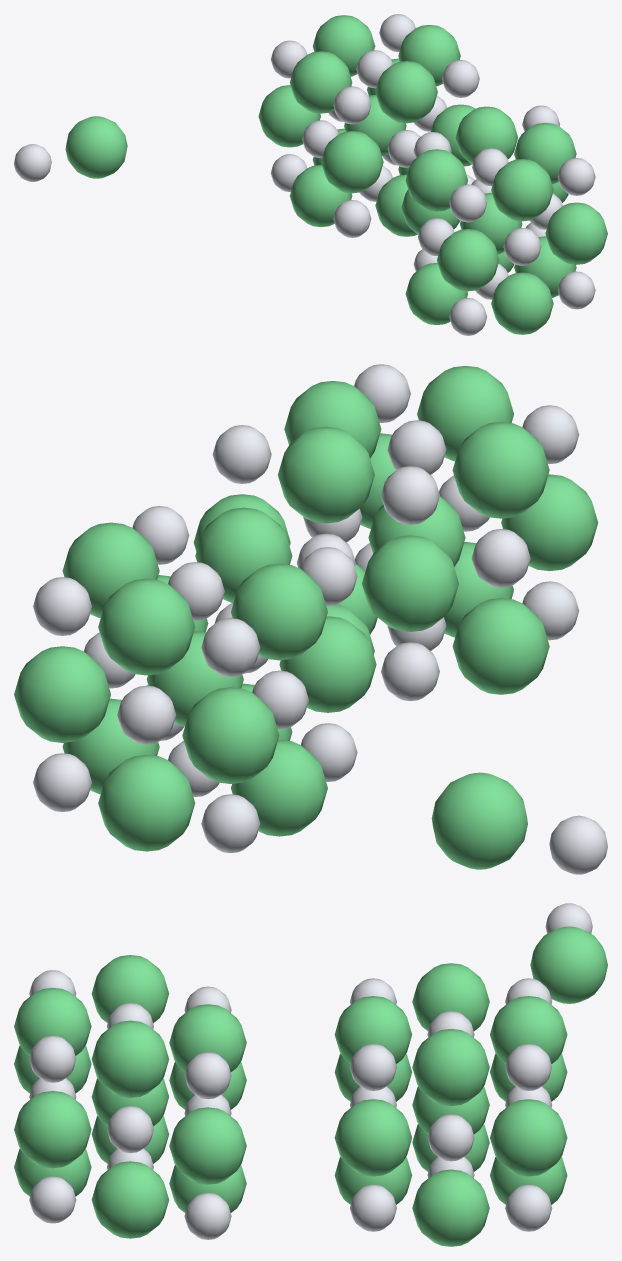
File: ionic_kit.glb
3 views of the same model, one above another, from view 1: azimuth 30°, elevation 25°; view 2: azimuth 150°, elevation 25°; view 3: azimuth 270°, elevation 25° (orthographic). The views are drawn at different scales.
Visible parts, largest first — view 1: lattice_shifted, lattice_nacl, cl_ion, na_ion; view 2: lattice_nacl, lattice_shifted, cl_ion, na_ion; view 3: lattice_shifted, lattice_nacl, cl_ion, na_ion.
Part boxes in pixels (x1=…): lattice_shifted: x1=401, y1=105, x2=607, y2=335; lattice_nacl: x1=258, y1=14, x2=479, y2=237; cl_ion: x1=65, y1=116, x2=127, y2=178; na_ion: x1=14, y1=144, x2=51, y2=181; lattice_nacl: x1=14, y1=506, x2=376, y2=852; lattice_shifted: x1=193, y1=364, x2=598, y2=700; cl_ion: x1=431, y1=772, x2=527, y2=869; na_ion: x1=549, y1=815, x2=607, y2=874; lattice_shifted: x1=14, y1=955, x2=246, y2=1239; lattice_nacl: x1=334, y1=963, x2=567, y2=1246; cl_ion: x1=530, y1=926, x2=607, y2=1003; na_ion: x1=545, y1=903, x2=592, y2=933.
Bounding box in the file's own units: 1.72 × 0.69 × 1.76.
